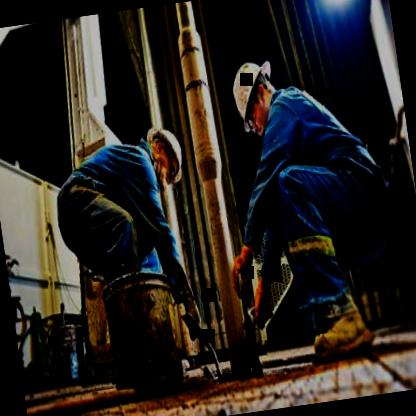helmet: (224, 52, 284, 141), (143, 123, 186, 192)
